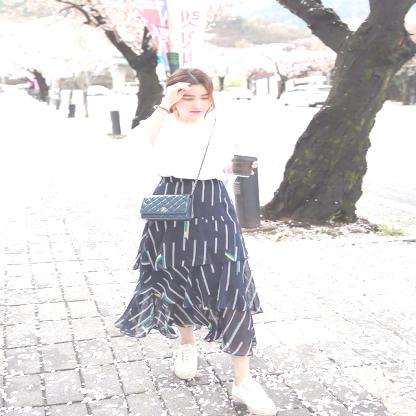dress: (114, 175, 266, 363), (127, 112, 243, 186)
jean: (119, 68, 279, 416)
